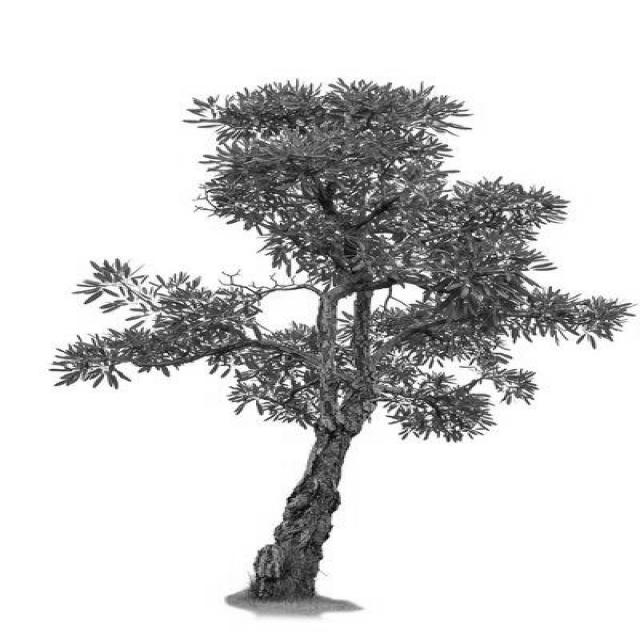Tree: (53, 80, 632, 600)
